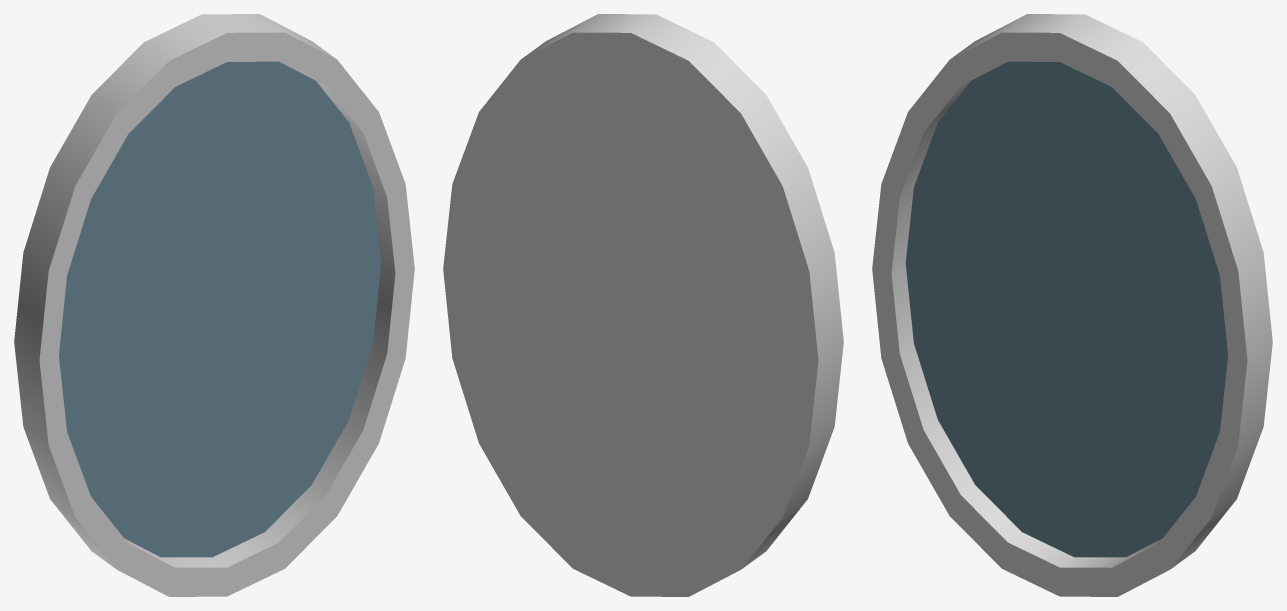
Rendered from Mirror.fbx.
The picture shows the model from 3 angles, left to right: view 1: azimuth 30°, elevation 25°; view 2: azimuth 150°, elevation 25°; view 3: azimuth 330°, elevation 25°; orthographic projection.
Visible parts, largest first — view 1: pCylinder1; view 2: pCylinder1; view 3: pCylinder1.
Boxes of the visible parts, x1,y1,x2,y2 form: pCylinder1: (14,14,414,596); pCylinder1: (443,14,843,596); pCylinder1: (872,14,1272,596).
Size of the model in its own units: 2.21 by 3.17 by 0.2578.
